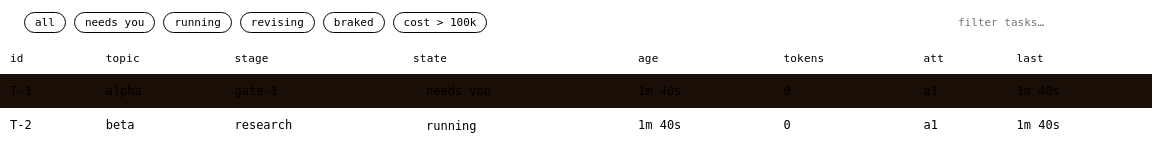
Scenario: ListView › filters when a pill is clicked
Step 1. Click the button "running" → (198, 22), box [164,12,232,33]
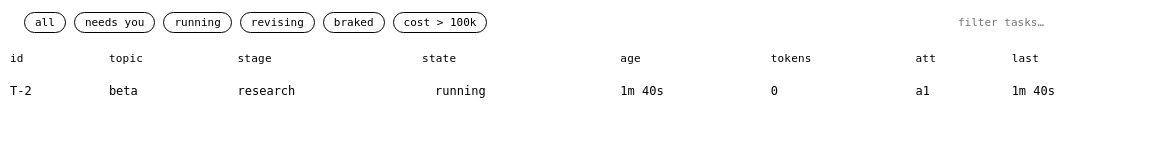
Expected: the text "beta" is shown, [99,74,228,108]
Now the text "alpha" is gone
